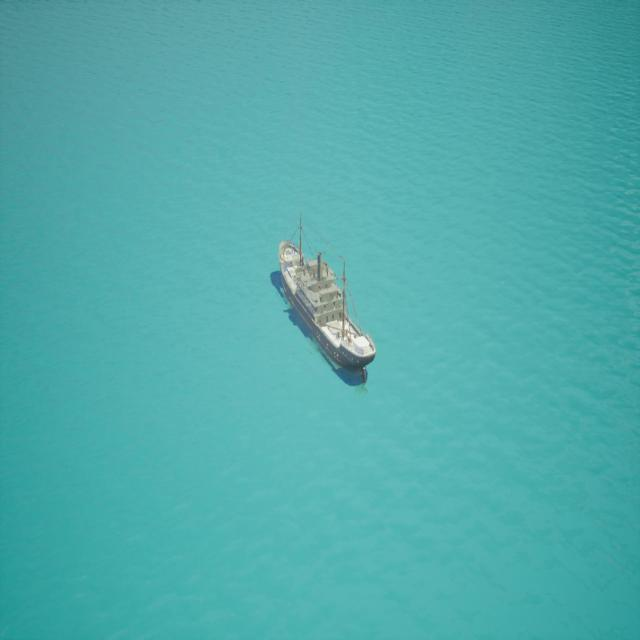fishing ship: (271, 217, 372, 385)
